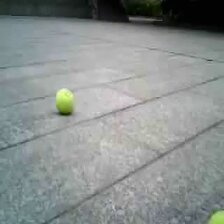tennis: (56, 87, 73, 113)
